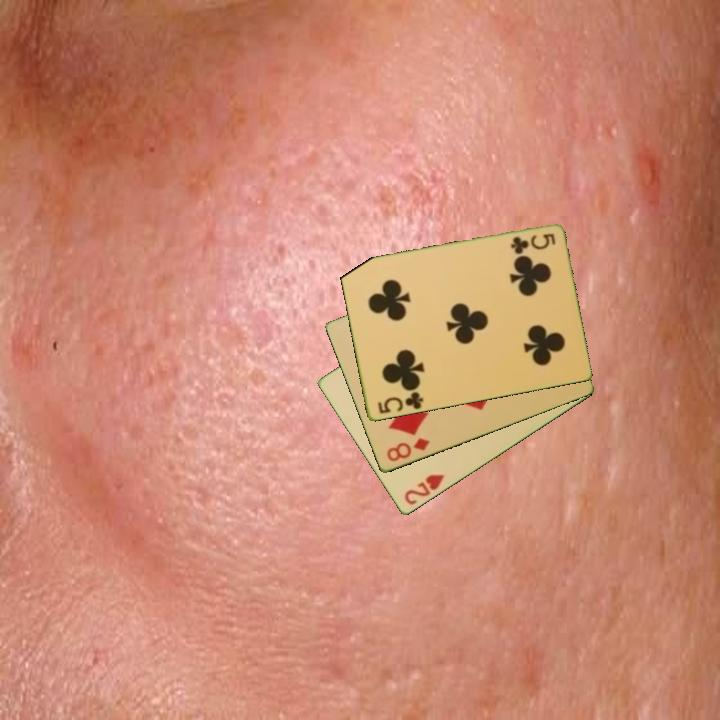2h: (401, 471, 447, 508)
5c: (374, 386, 426, 417), (507, 230, 558, 257)
8d: (383, 434, 433, 465)
